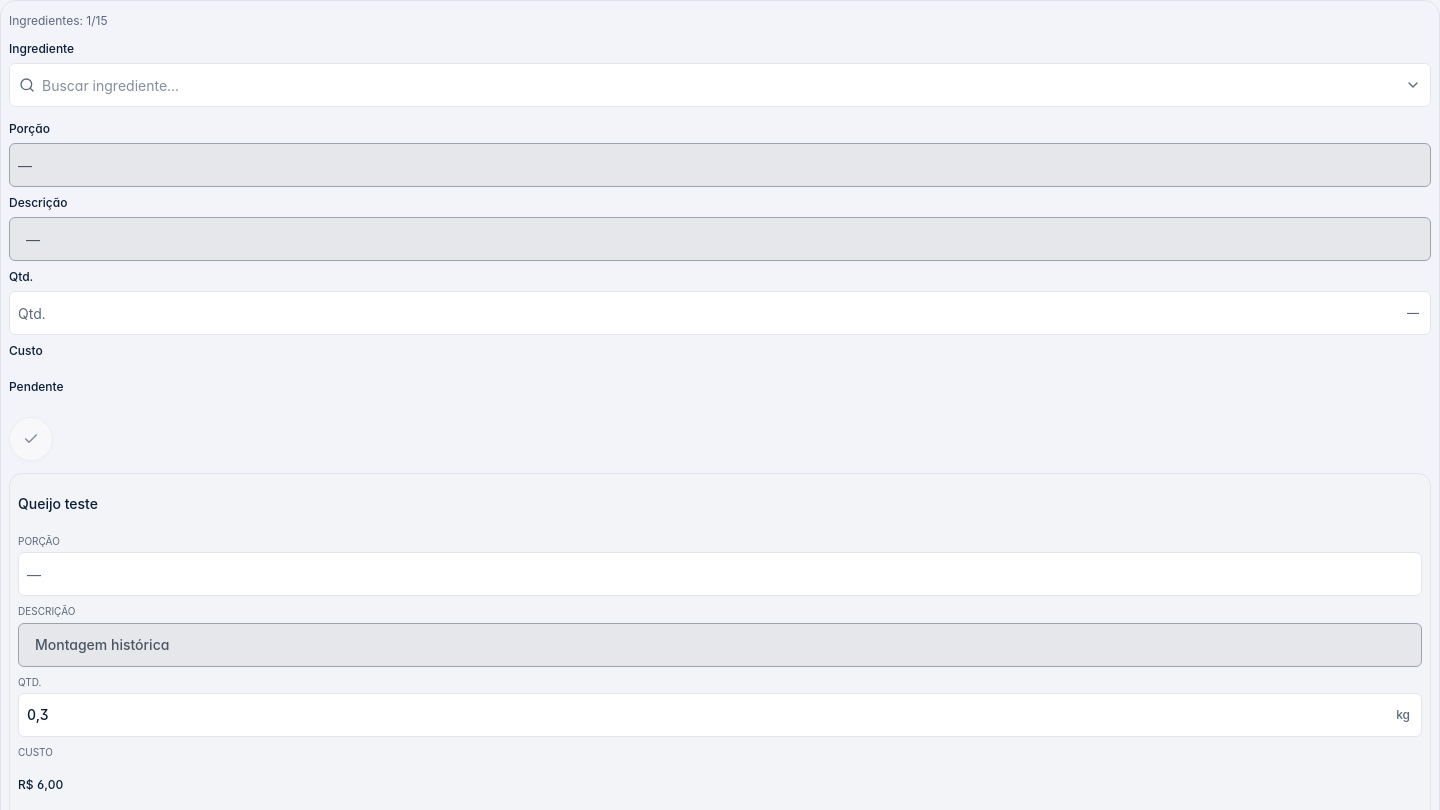
Scenario: digita o multiplicador em linha legada de preparação/produto (false) sem selecionar medida
Type "2" into the field named "Quantidade de porções de Queijo teste".
click(720, 574); type("2")  # box [18,552,1422,596]
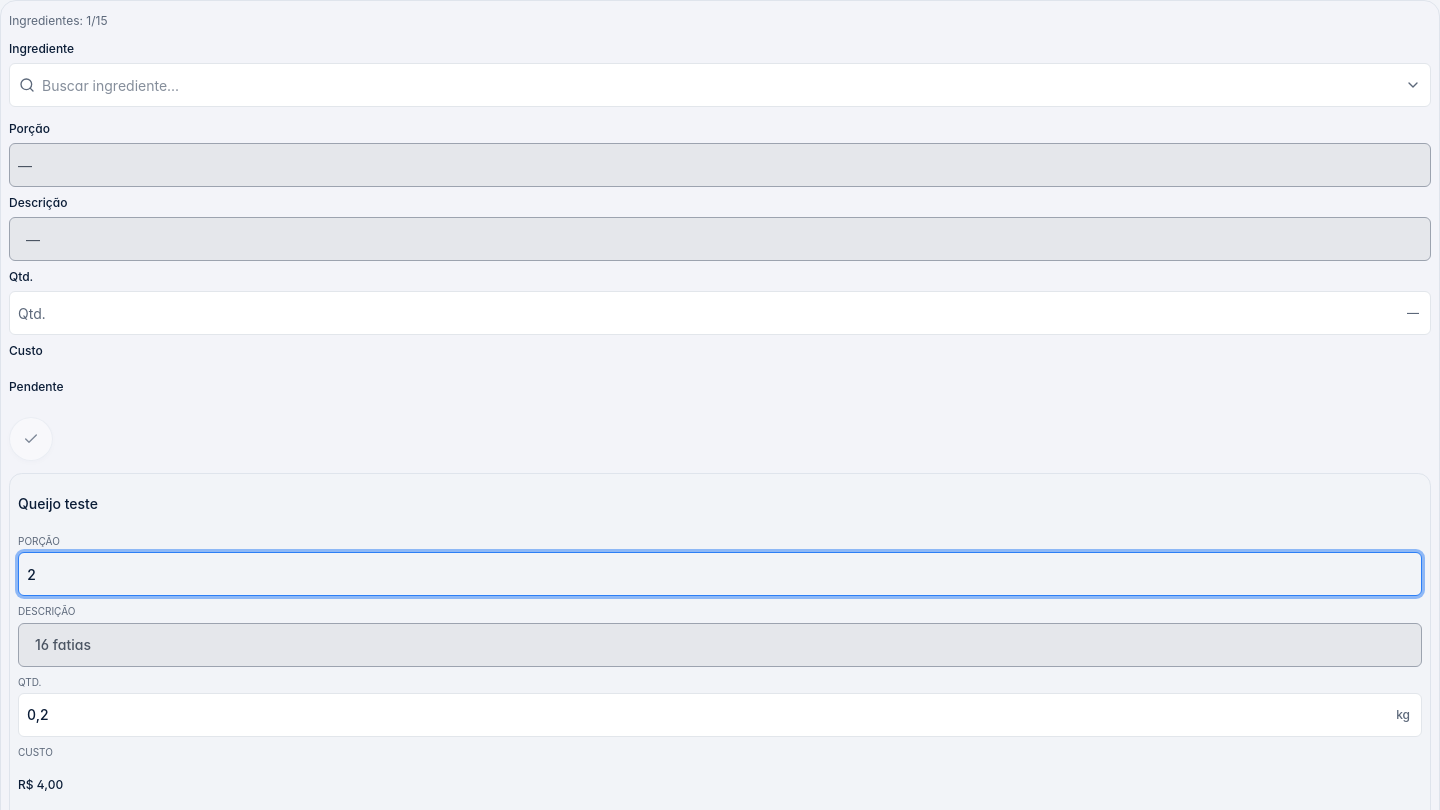
Expected: the field named "Descrição da porção de Queijo teste" holds "16 fatias", [18,623,1422,667]
Expected: the field named "Quantidade de Queijo teste" holds "0,2", [18,693,1422,737]
